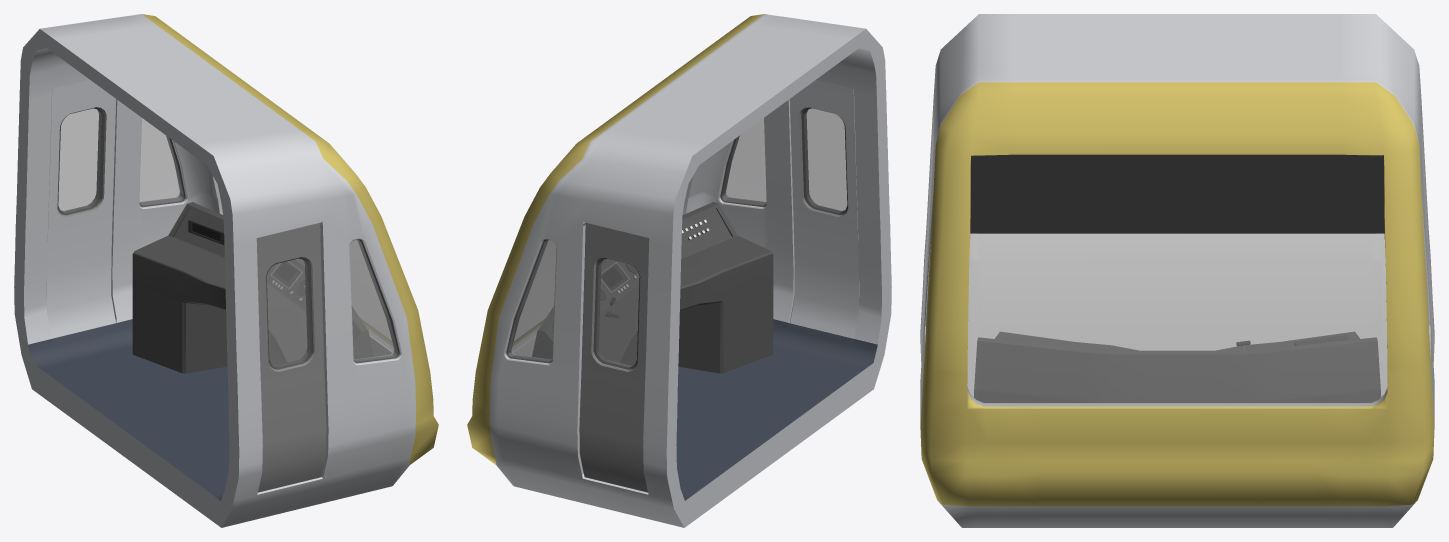
Rendered from Hull_Cabin 1.fbx.
3 views of the same model, side by side, from view 1: azimuth 30°, elevation 25°; view 2: azimuth 150°, elevation 25°; view 3: azimuth 270°, elevation 25° (orthographic). The views are drawn at different scales.
Visible parts, largest first — view 1: Hull_Cabin, PanelBase, CabinEx_L1, CabinEx_L, Window_CabBR, Window_CabBR1, Window_CabFR, Window_CabFL, Window_CabBR2, pCube58, pCube57; view 2: Hull_Cabin, PanelBase, CabinEx_L, CabinEx_L1, Window_CabBR1, Window_CabBR, Window_CabFL, Window_CabFR, Window_CabBR2, pCube57; view 3: Hull_Cabin, Window_CabBR2, PanelBase.
Part boxes in pixels (<box>): Hull_Cabin: <box>14,14,438,527</box>; PanelBase: <box>132,202,373,373</box>; CabinEx_L1: <box>256,223,326,492</box>; CabinEx_L: <box>46,80,116,338</box>; Window_CabBR: <box>266,258,309,367</box>; Window_CabBR1: <box>58,108,101,212</box>; Window_CabFR: <box>349,240,397,361</box>; Window_CabFL: <box>139,118,183,205</box>; Window_CabBR2: <box>220,199,392,347</box>; pCube58: <box>188,214,224,244</box>; pCube57: <box>271,261,302,288</box>; Hull_Cabin: <box>467,14,891,527</box>; PanelBase: <box>532,202,773,373</box>; CabinEx_L: <box>579,223,649,492</box>; CabinEx_L1: <box>789,80,859,338</box>; Window_CabBR1: <box>596,258,639,367</box>; Window_CabBR: <box>804,108,847,212</box>; Window_CabFL: <box>508,240,556,361</box>; Window_CabFR: <box>722,118,766,205</box>; Window_CabBR2: <box>513,193,686,347</box>; pCube57: <box>601,262,629,292</box>; Hull_Cabin: <box>920,14,1434,527</box>; Window_CabBR2: <box>967,233,1387,405</box>; PanelBase: <box>974,332,1380,402</box>.
Bounding box in the file's own units: 160 × 271 × 302.
